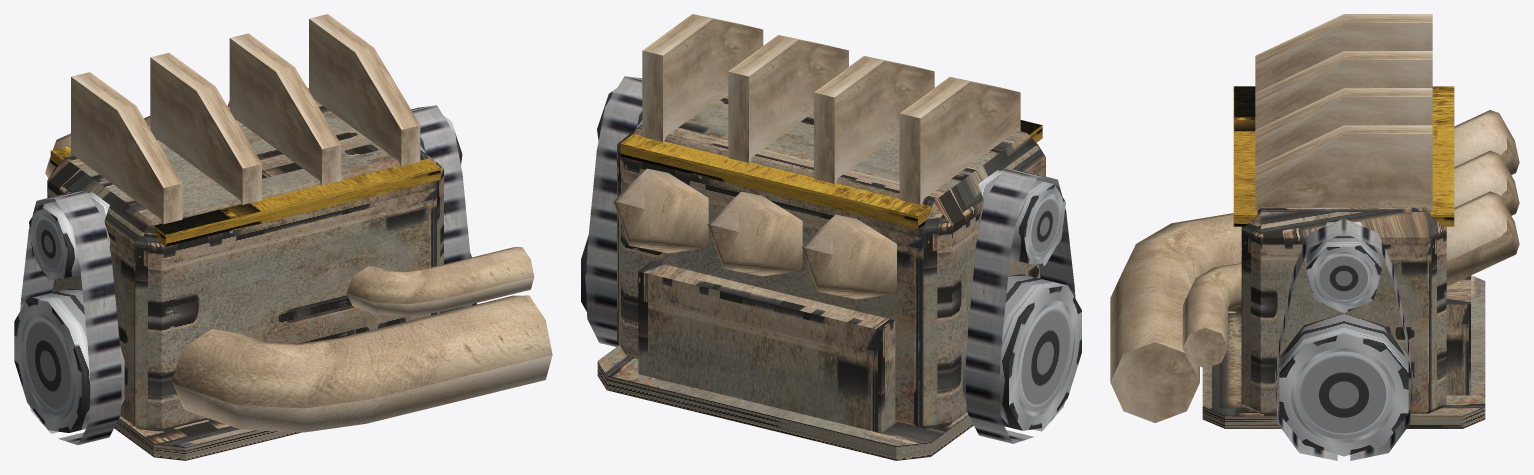
Rendered from static.glb.
3 renders of one model, left to right at view 1: azimuth 30°, elevation 25°; view 2: azimuth 150°, elevation 25°; view 3: azimuth 270°, elevation 25°, orthographic. The views are drawn at different scales.
Visible parts, largest first — view 1: Cube_3, Sweep_4, Extrude, Cube_1_2, Cube_1_0, Cube_1_1, Cube_1_3, Cylinder_1_2, Sweep, Cube_1, Extrude_3, Cylinder; view 2: Cube_3, Cube, Extrude, Cylinder_1_2, Cube_1_0, Extrude_3, Cube_1_3, Cube_1_2, Cube_1_1, Cube_1, Cylinder_2, Cylinder_1 (+2 smaller); view 3: Cube_3, Sweep_4, Cylinder_1_2, Cube_1_3, Extrude_3, Cube_1_2, Cube_1_1, Cube_1_0, Cube_1, Cylinder_2, Cylinder, Sweep (+4 smaller).
Boxes of the visible parts, x1,y1,x2,y2 form: Cube_3: [47, 100, 443, 431]; Sweep_4: [171, 295, 552, 432]; Extrude: [20, 105, 472, 444]; Cube_1_2: [229, 33, 341, 185]; Cube_1_0: [71, 72, 182, 224]; Cube_1_1: [150, 52, 261, 204]; Cube_1_3: [309, 14, 420, 166]; Cylinder_1_2: [14, 253, 476, 432]; Sweep: [346, 247, 534, 316]; Cube_1: [50, 87, 440, 246]; Extrude_3: [114, 416, 302, 460]; Cylinder: [29, 116, 462, 280]; Cube_3: [617, 91, 1045, 428]; Cube: [638, 261, 896, 433]; Extrude: [585, 76, 1075, 443]; Cylinder_1_2: [581, 235, 1081, 430]; Cube_1_0: [899, 77, 1020, 204]; Extrude_3: [597, 345, 973, 460]; Cube_1_3: [642, 14, 763, 141]; Cube_1_2: [728, 35, 848, 162]; Cube_1_1: [814, 56, 934, 183]; Cube_1: [620, 120, 1042, 229]; Cylinder_2: [613, 168, 708, 253]; Cylinder_1: [707, 191, 802, 276]; Cube_3: [1241, 207, 1446, 413]; Sweep_4: [1110, 213, 1241, 422]; Cylinder_1_2: [1279, 313, 1408, 456]; Cube_1_3: [1255, 125, 1432, 210]; Extrude_3: [1202, 275, 1485, 428]; Cube_1_2: [1255, 88, 1432, 166]; Cube_1_1: [1255, 51, 1432, 129]; Cube_1_0: [1255, 14, 1432, 92]; Cube_1: [1233, 86, 1454, 226]; Cylinder_2: [1446, 191, 1519, 286]; Cylinder: [1306, 222, 1381, 312]; Sweep: [1182, 263, 1241, 368].
Size of the model in its own units: 0.9235 by 0.6813 by 0.8495.
Materials: 5 (5 with a texture image).
